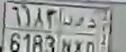1: (23, 6, 32, 52)
3: (45, 8, 56, 52)
6: (9, 5, 20, 52)
8: (33, 7, 44, 52)
D: (86, 15, 96, 52)
